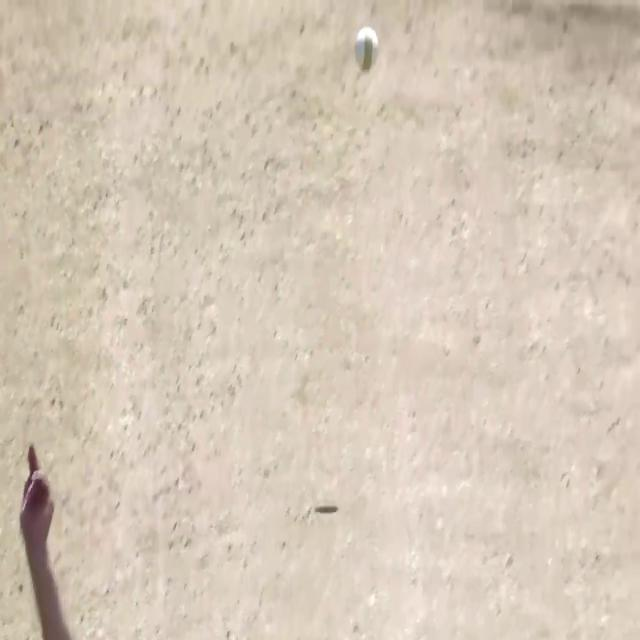ball: (354, 22, 380, 76)
